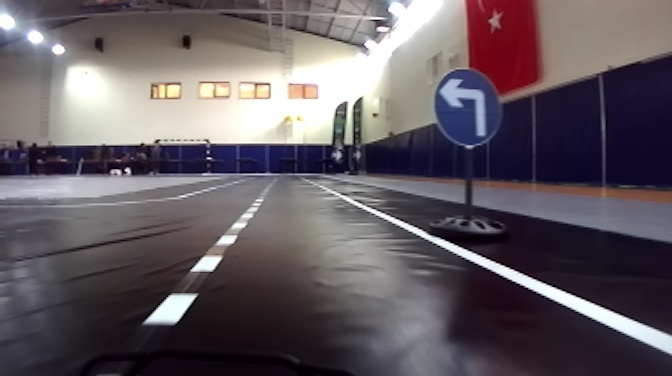sola_donus: (437, 71, 503, 143)
